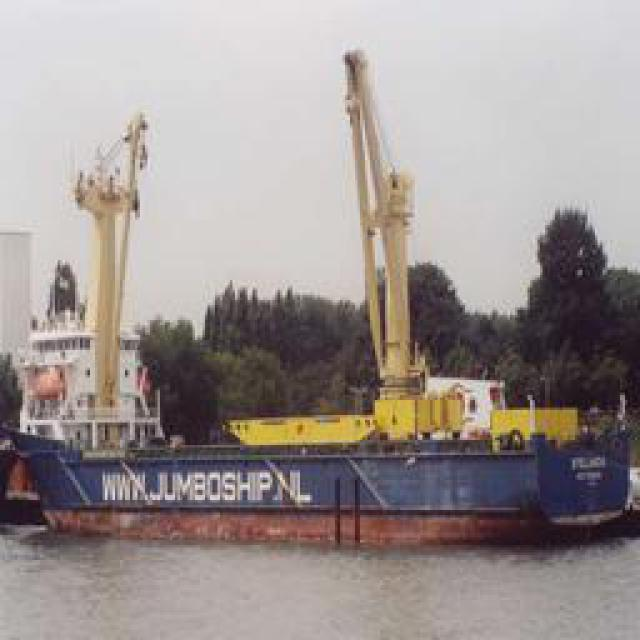Ship: (10, 389, 635, 554)
